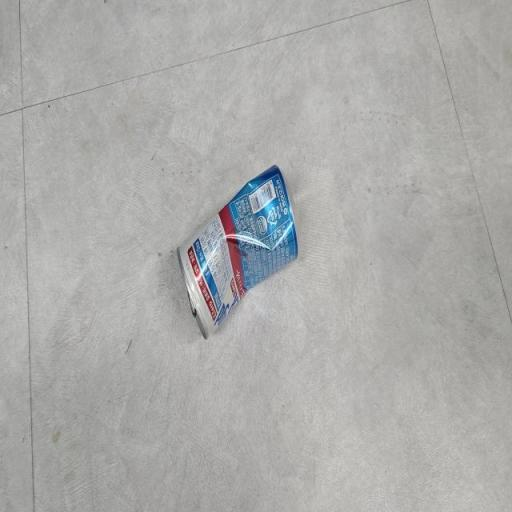metal: (161, 157, 320, 344)
